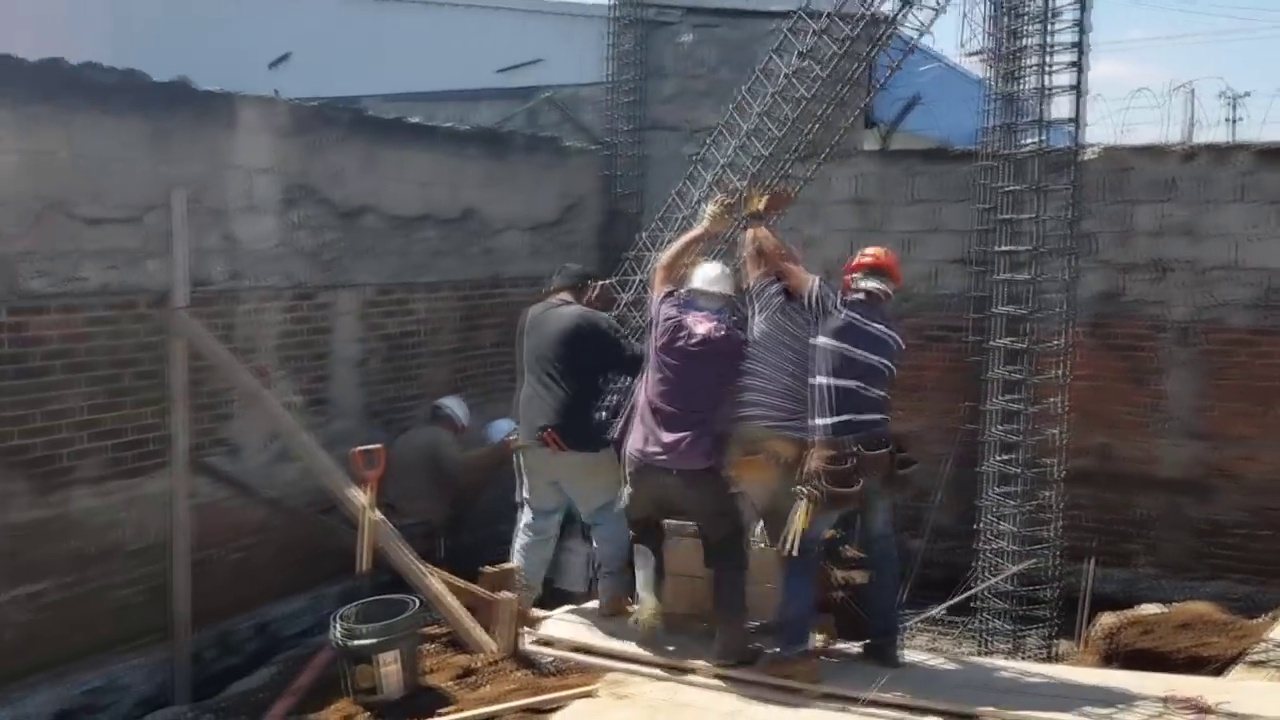helmet: (843, 245, 901, 288), (685, 261, 742, 297), (431, 397, 469, 429), (482, 417, 515, 446)
helmet-off: (730, 199, 781, 244), (537, 267, 590, 306)
helmet-on: (681, 259, 742, 325), (834, 245, 902, 304), (425, 396, 469, 440)
person: (622, 193, 755, 668), (777, 244, 900, 652), (515, 261, 640, 643), (725, 234, 828, 624), (379, 397, 511, 598)
